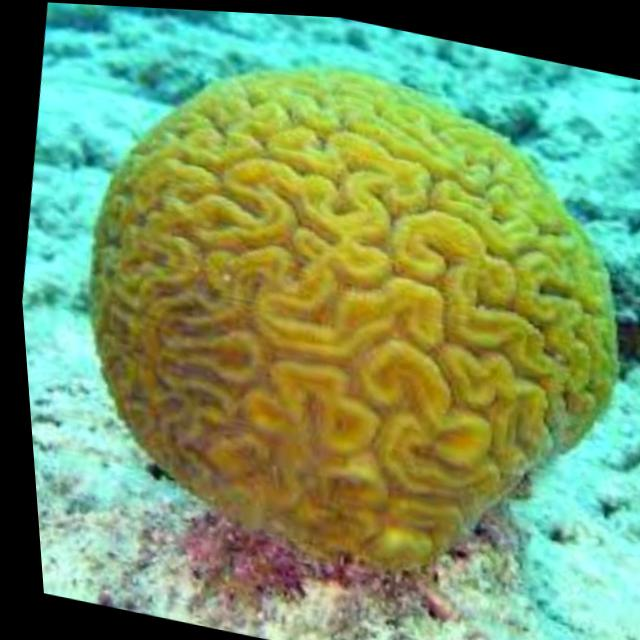Healthy Coral: (25, 3, 640, 632)
